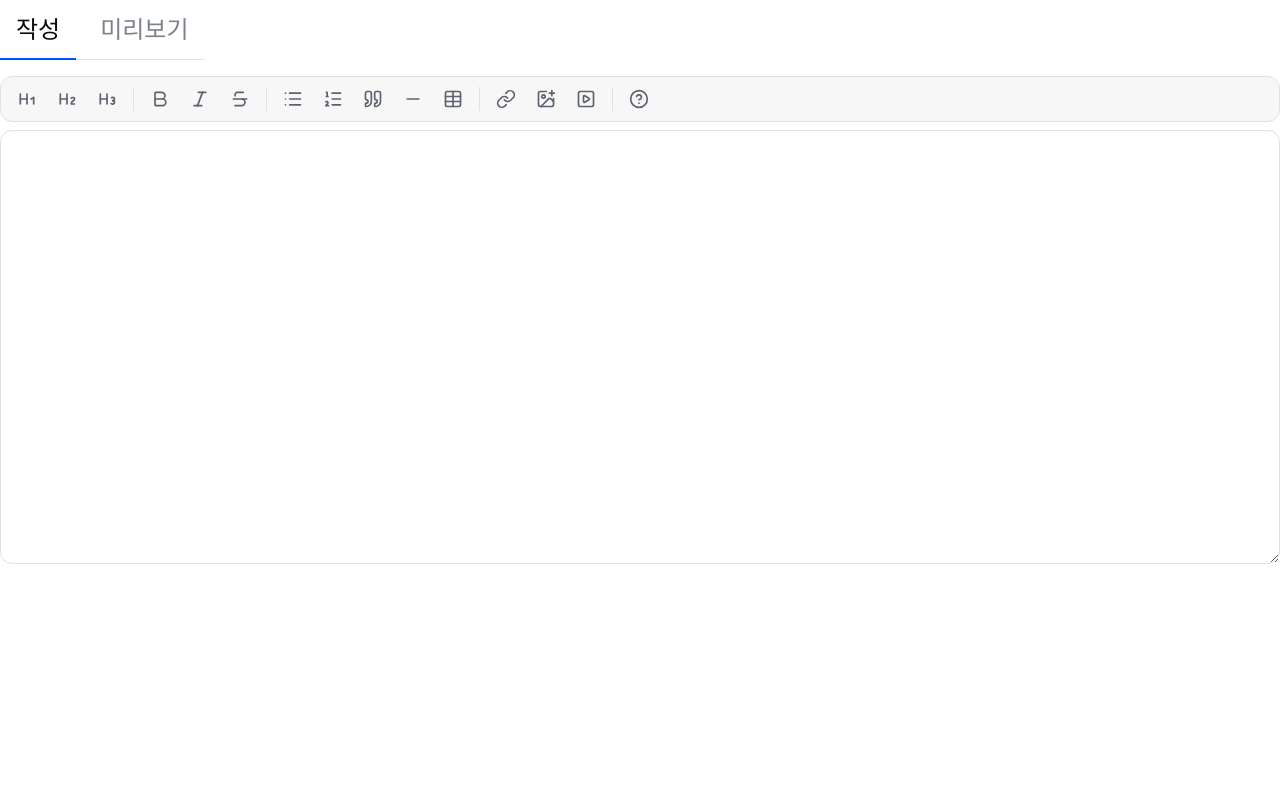
Test: MarkdownToolbar — 링크·유튜브 › 문구가 비면 주소를 문구로 쓴다
This screenshot has width=1280, height=800.
Click the button named "링크" at (506,99), box 488,81 -> 524,117
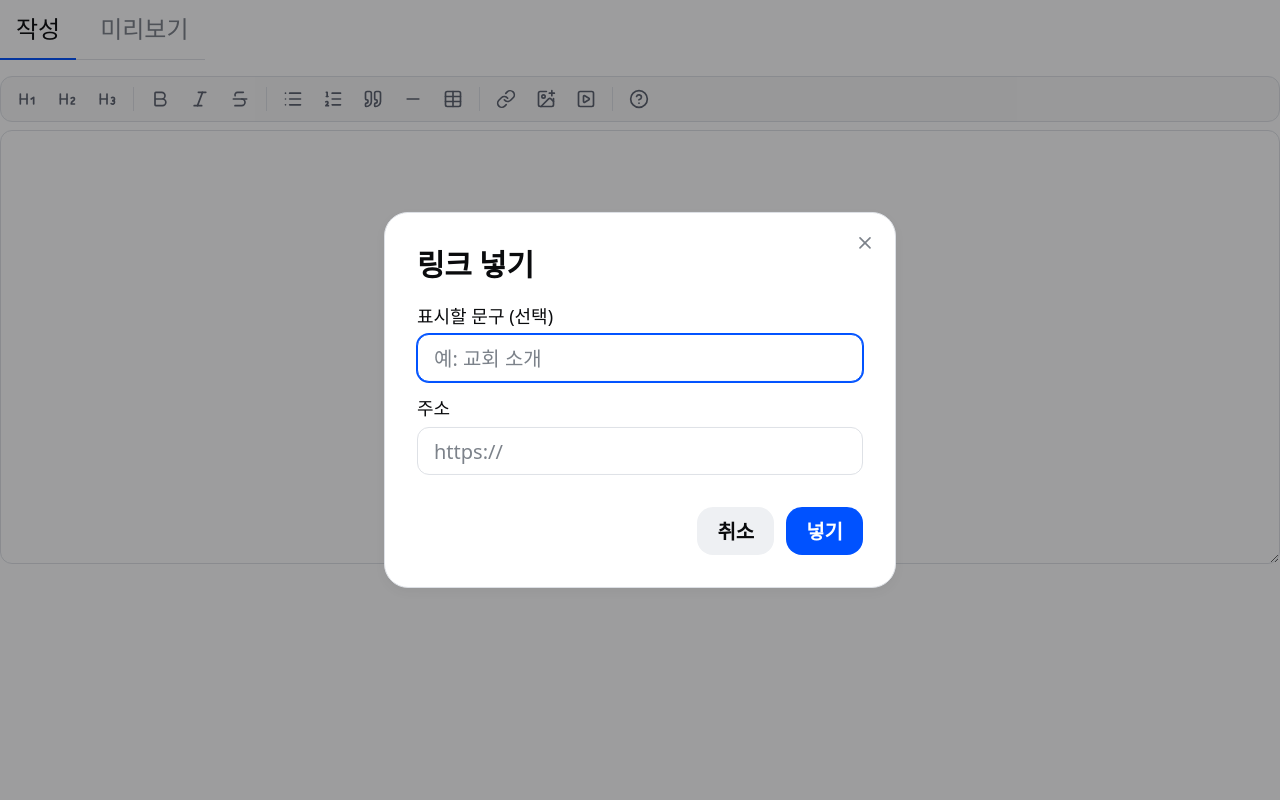
Type "https://example.com" into the field labelled "주소" at (640,451), box 417,427 -> 863,475
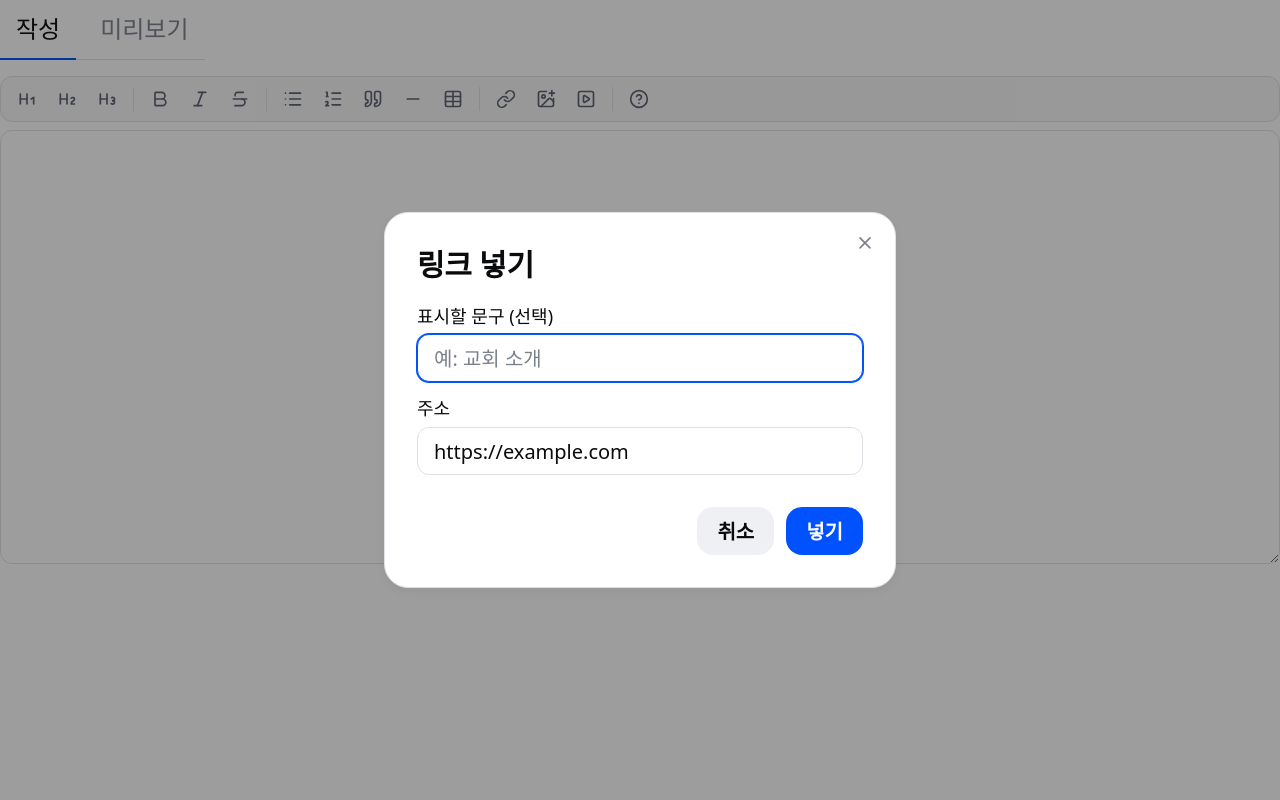
Click the button "넣기" at (825,531), box 786,507 -> 863,555
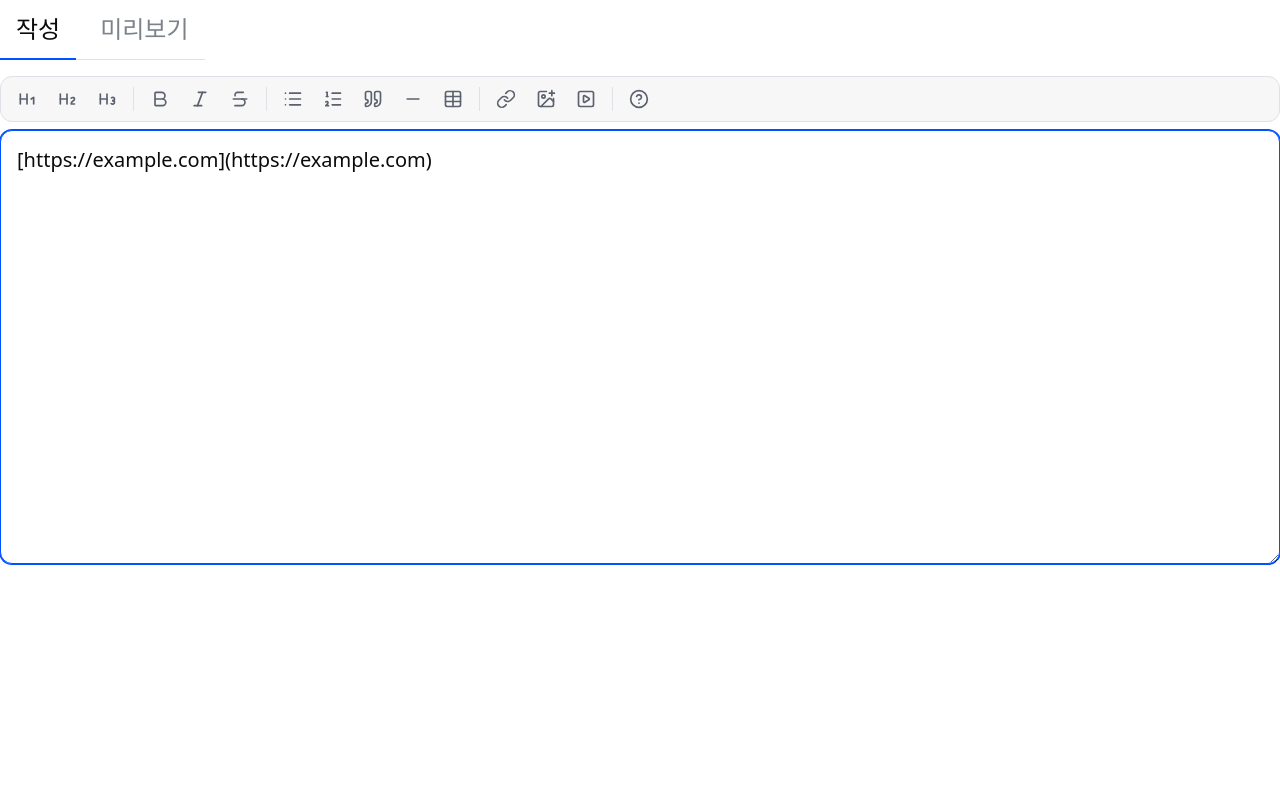
Now the text box holds "[https://example.com](https://example.com)", box 0,130 -> 1279,564
